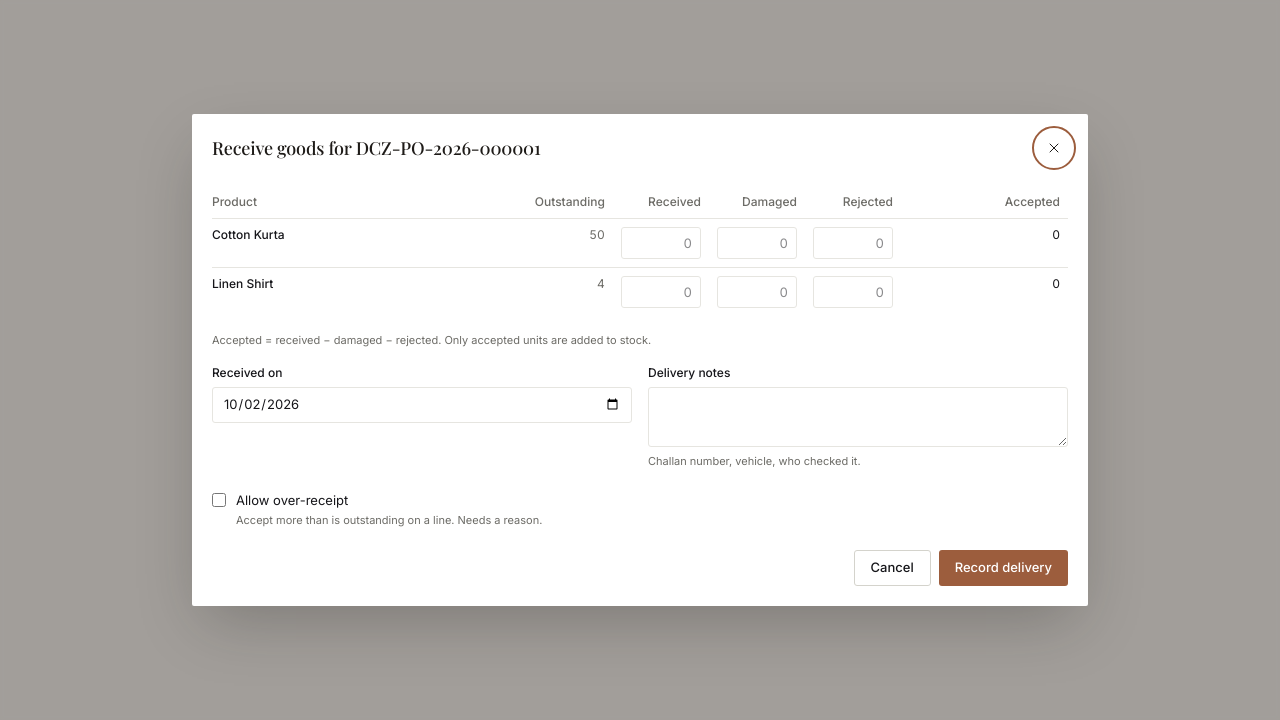
Test: ReceiveGoodsDialog › works out the accepted units as you type
The image size is (1280, 720).
Expected: the cell "0" in the row of "Cotton Kurta" is shown, [1052, 227, 1060, 242]
Type "20" into the 1st field with placeholder "0".
click(661, 243); type("20")  # box [621, 227, 701, 259]
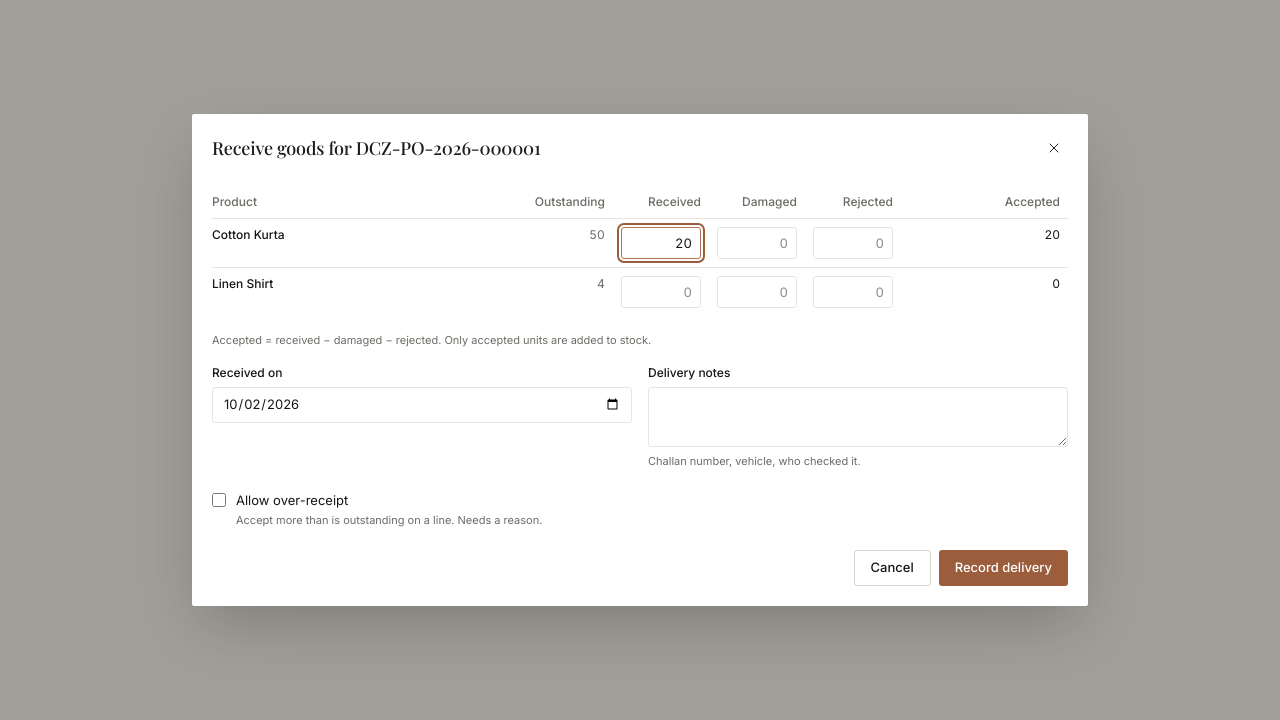
Type "1" into the 1st field with placeholder "0".
click(757, 243); type("1")  # box [717, 227, 797, 259]
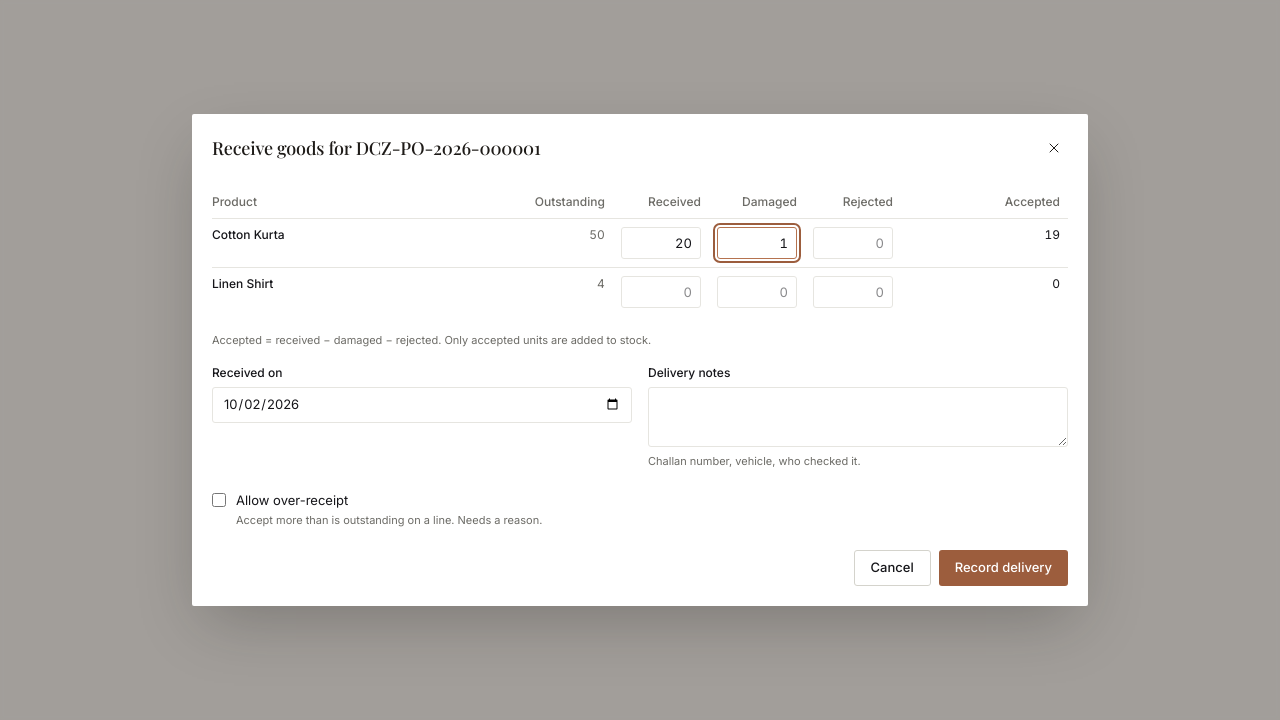
Type "2" into the field with placeholder "0" in the row of "Cotton Kurta".
click(853, 243); type("2")  # box [813, 227, 893, 259]
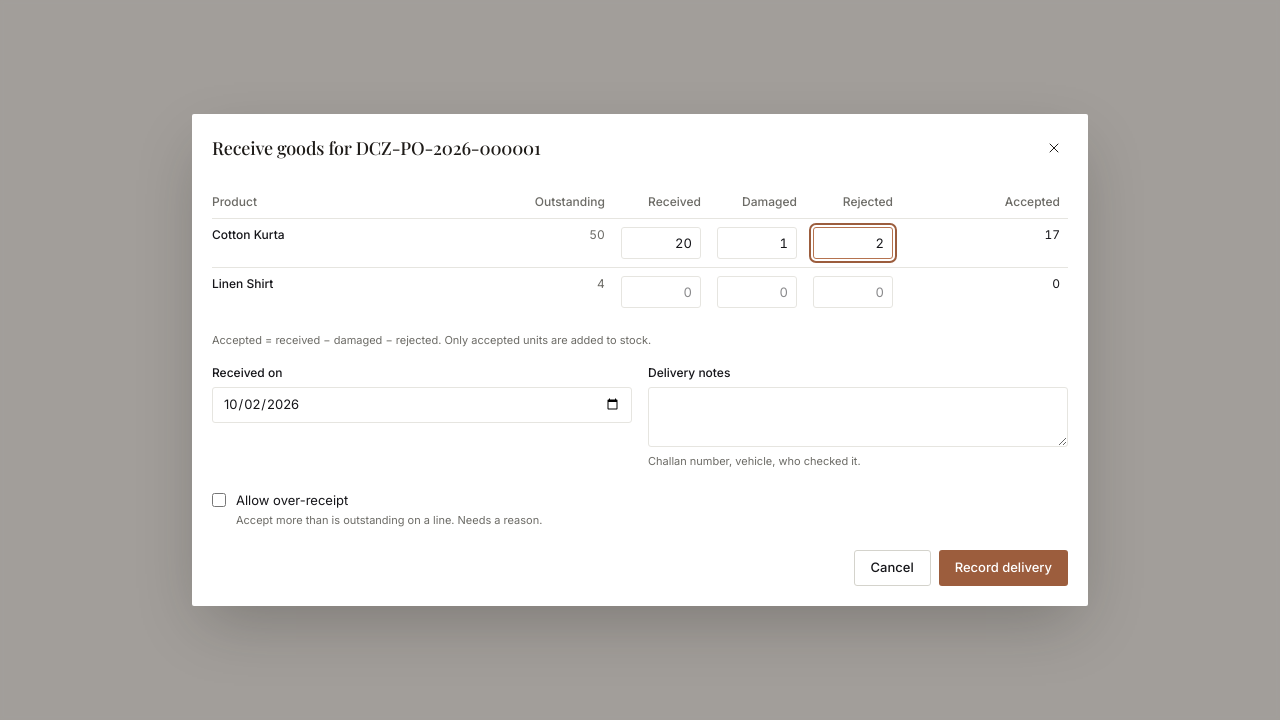
Expected: the cell "17" is shown, [901, 218, 1068, 268]
